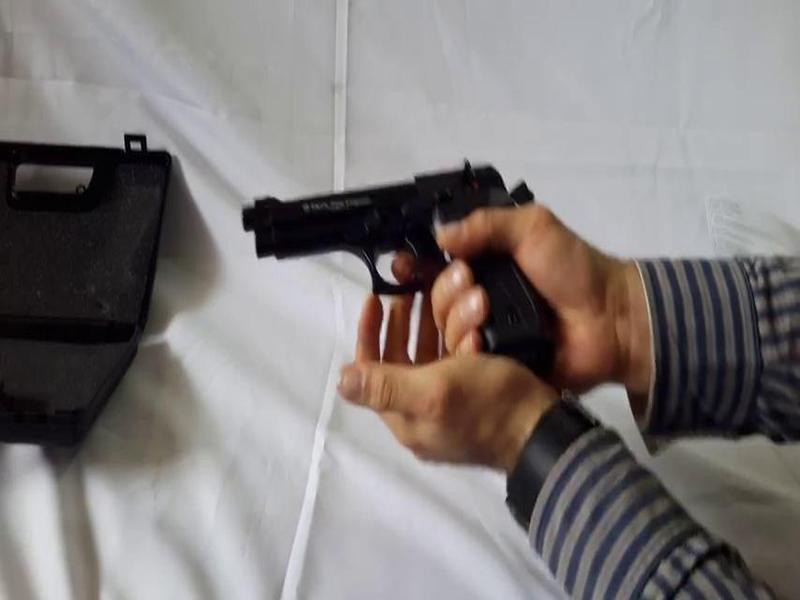Pistola: (235, 150, 583, 375)
